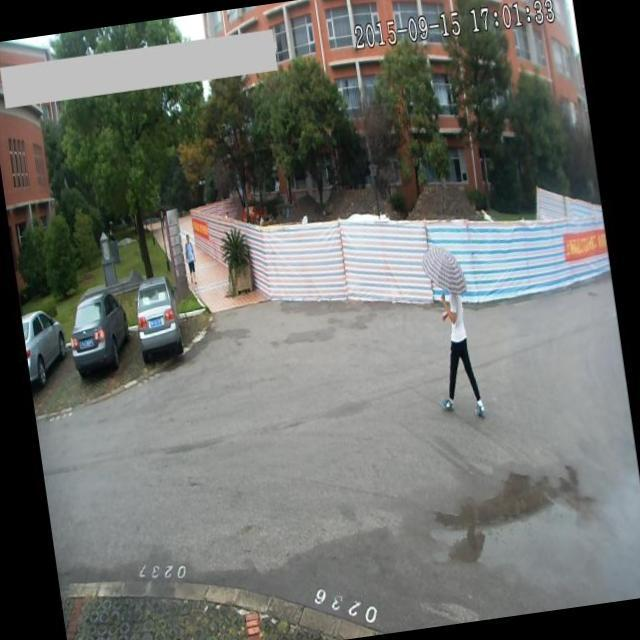person: (416, 241, 488, 424), (181, 231, 202, 287)
